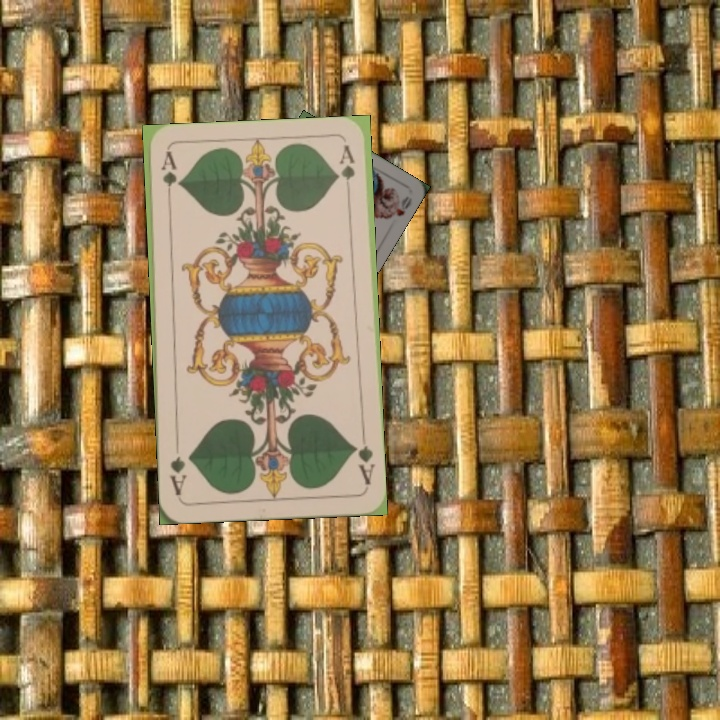GA: (349, 430, 377, 487), (157, 148, 178, 208)
